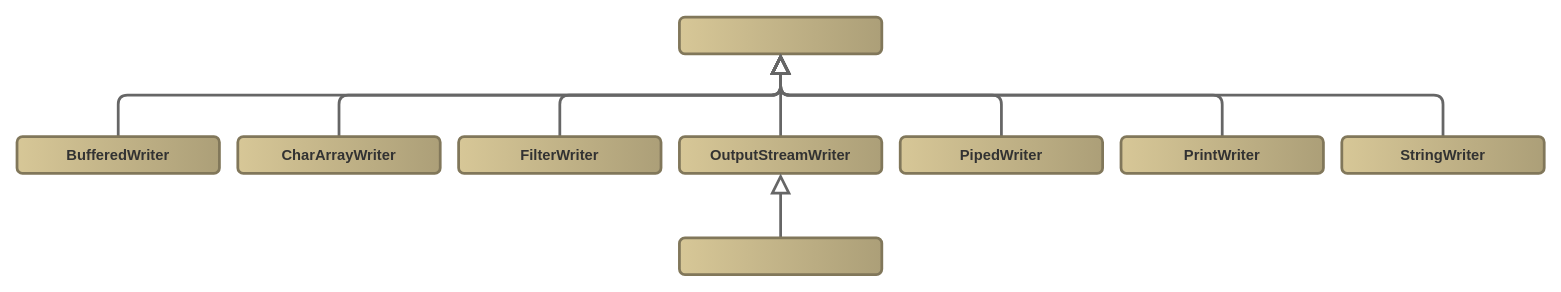
Image size: 1561x292. Some labels were removed from this diagram. Here are the shapes that lost their labels. From the top down, the centre of each, then its label:
At (x=780, y=35): "Writer".
At (x=780, y=256): "FileWriter".
